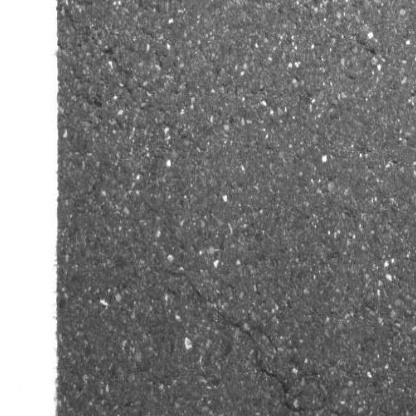Cracks: (161, 267, 351, 416), (405, 85, 416, 103)
